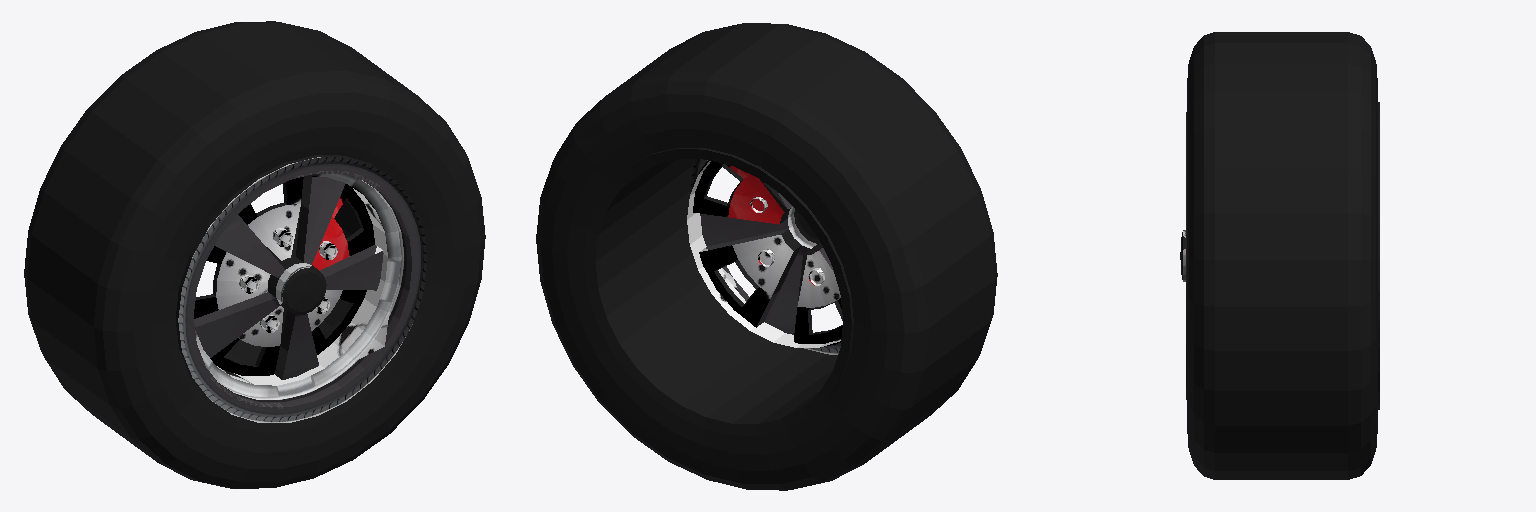
3 views of the same model, side by side, from view 1: azimuth 30°, elevation 25°; view 2: azimuth 150°, elevation 25°; view 3: azimuth 270°, elevation 25° (orthographic).
Parts seen in each view (by area): view 1: W2_Circle_001.001; view 2: W2_Circle_001.001; view 3: W2_Circle_001.001.
Part boxes in pixels (x1,y1,x2,y2): W2_Circle_001.001: (24, 21, 485, 488); W2_Circle_001.001: (536, 23, 997, 490); W2_Circle_001.001: (1180, 32, 1379, 479).
Bounding box in the file's own units: 1.13 × 1.12 × 0.4999.
1 materials, 1 textured.